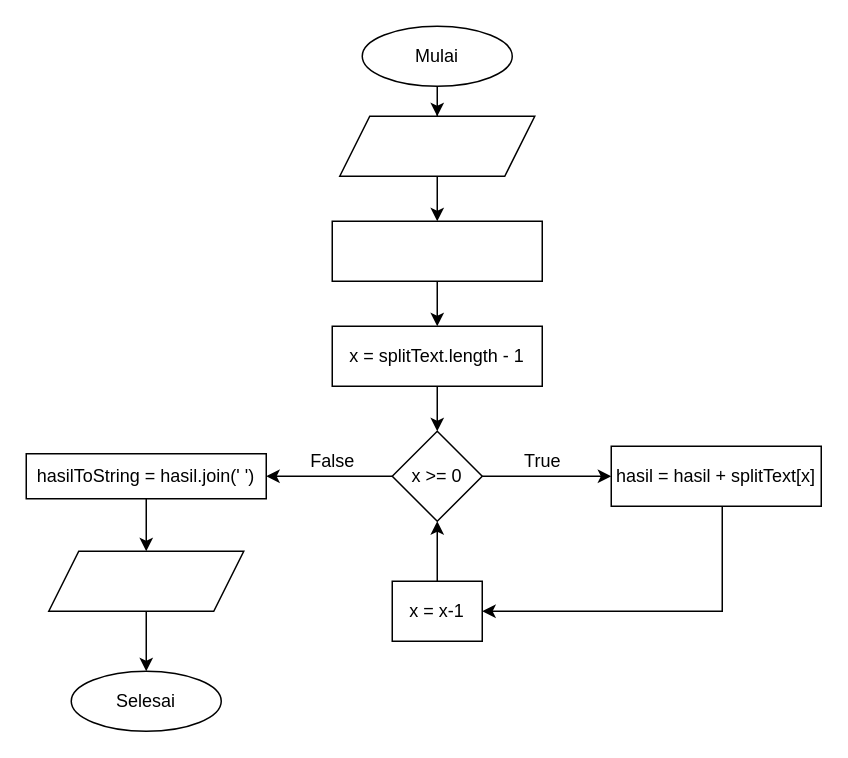
Some shapes in this 848 by 758 pixel diagram are drawn without their labels. Each missing label, with the box of its shape:
cetak hasilToString: (47, 550, 244, 611)
Input teks: (338, 115, 535, 176)
splitText = teks.split(' '): (331, 220, 542, 281)
